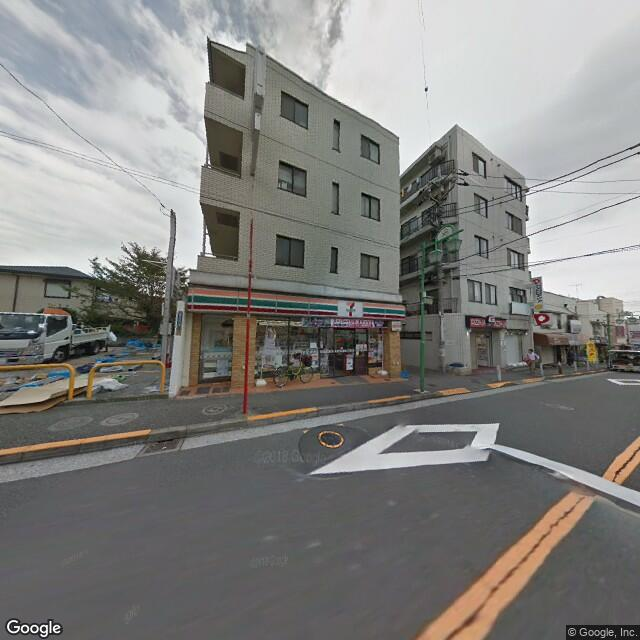7-eleven: (185, 281, 406, 322)
